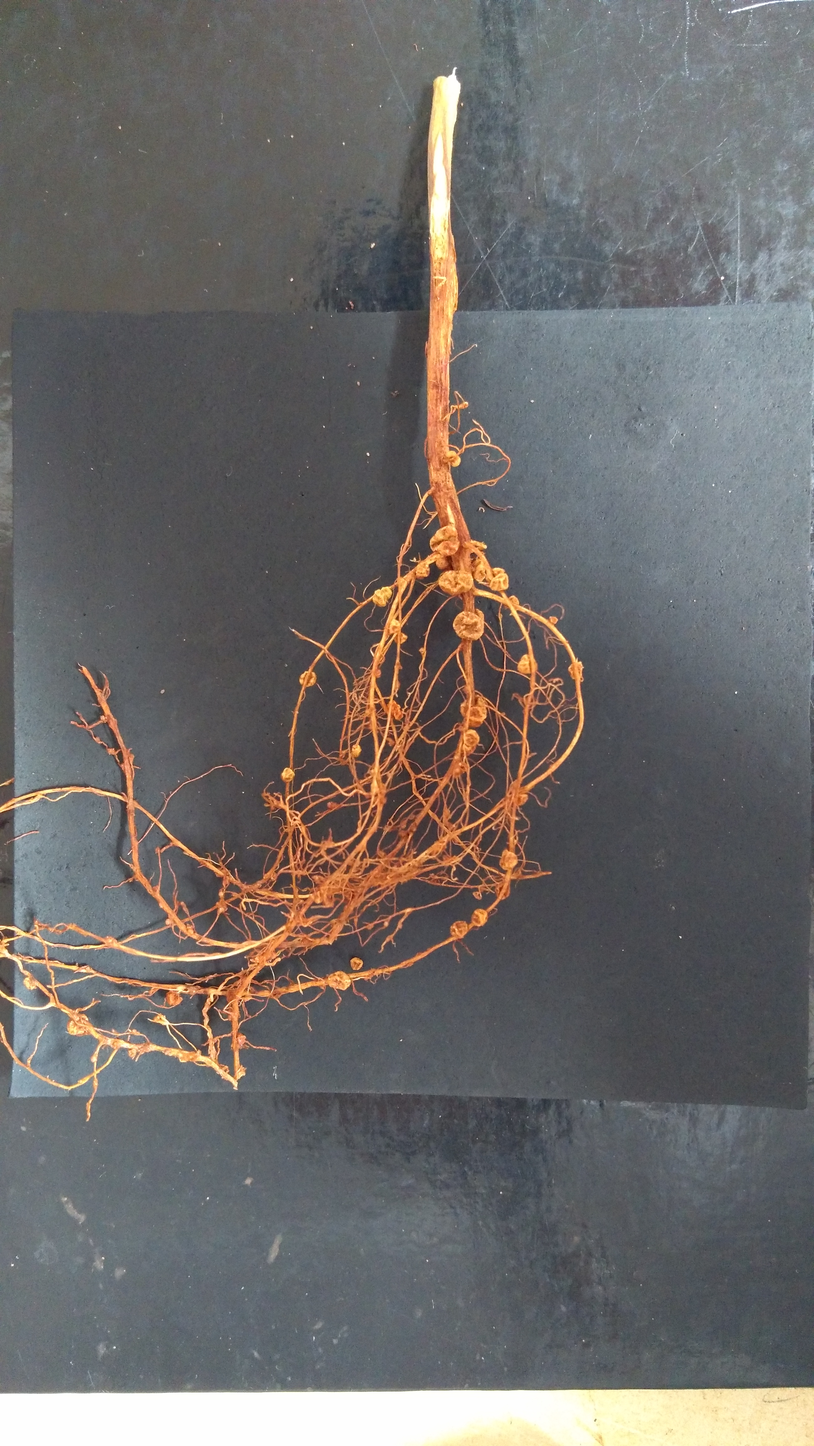nodule: (452, 610, 485, 641), (429, 525, 460, 556), (438, 570, 474, 596), (459, 695, 488, 727), (484, 567, 509, 592), (66, 1012, 91, 1036), (461, 728, 480, 757), (327, 970, 352, 991), (517, 654, 539, 675), (120, 753, 136, 781), (372, 587, 393, 608), (498, 848, 518, 870), (471, 558, 488, 583), (385, 700, 404, 721), (449, 920, 468, 938), (494, 879, 511, 899), (471, 908, 488, 927), (164, 990, 184, 1006), (445, 450, 462, 468), (241, 984, 258, 1002), (298, 671, 317, 687), (415, 560, 430, 579), (22, 976, 39, 991), (435, 554, 450, 570), (504, 595, 519, 611), (312, 888, 328, 903), (281, 766, 295, 782), (388, 618, 401, 635), (213, 865, 231, 877), (349, 957, 364, 971), (226, 1007, 241, 1021), (313, 874, 328, 888), (515, 792, 529, 806), (346, 856, 362, 868), (326, 800, 343, 811), (371, 794, 388, 805), (394, 631, 408, 644), (215, 899, 228, 913), (350, 744, 362, 759), (443, 854, 461, 864), (262, 871, 278, 882), (364, 706, 378, 718), (127, 1045, 138, 1060), (103, 935, 118, 946), (236, 1030, 246, 1045), (473, 608, 484, 621), (369, 668, 382, 679), (329, 918, 342, 929), (454, 401, 469, 410), (452, 767, 463, 778), (185, 923, 195, 935), (399, 817, 408, 829), (153, 1014, 166, 1022), (548, 615, 558, 625), (130, 1028, 141, 1036), (105, 747, 115, 755), (100, 714, 108, 724), (382, 824, 392, 832), (395, 661, 403, 670), (89, 1054, 98, 1062), (398, 830, 408, 837), (164, 918, 174, 925), (443, 807, 450, 817), (151, 885, 159, 893), (458, 761, 467, 768), (366, 923, 375, 930), (95, 735, 101, 745), (419, 647, 426, 655), (388, 739, 395, 747), (217, 890, 224, 898), (408, 813, 416, 820), (382, 920, 389, 927)
